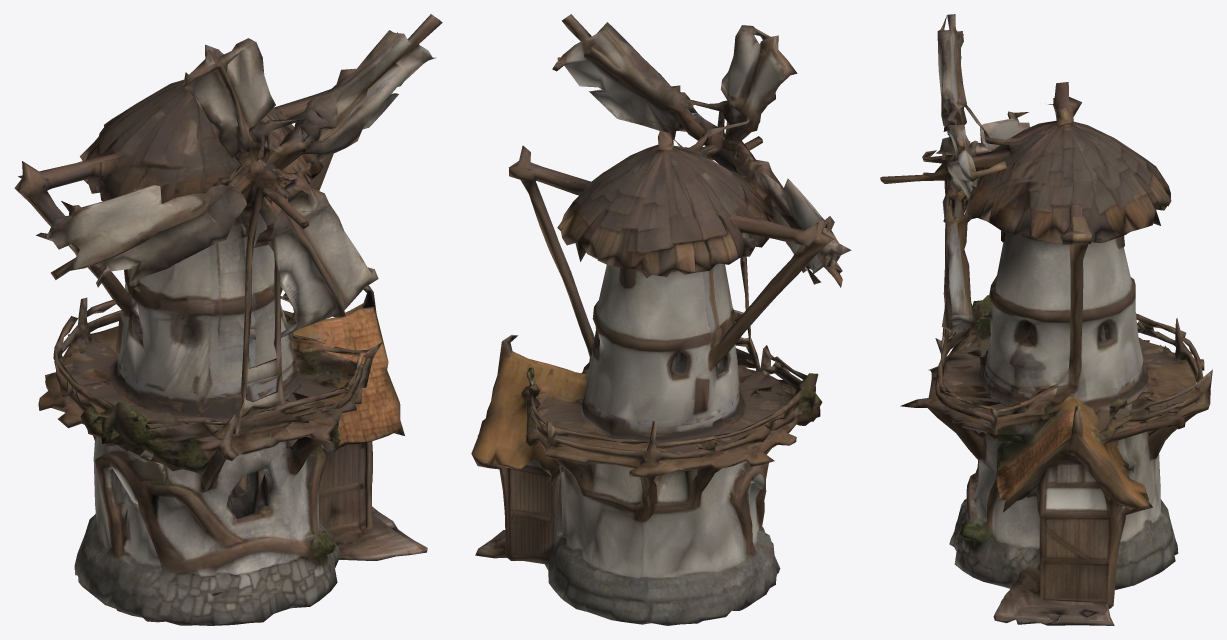
File: env_windmill.glb
The picture shows the model from 3 angles, left to right: view 1: azimuth 30°, elevation 25°; view 2: azimuth 150°, elevation 25°; view 3: azimuth 270°, elevation 25°; orthographic projection. The views are drawn at different scales.
Bounding box in the file's own units: 1.33 × 1.99 × 1.18.
Materials: 1 (1 with a texture image).
